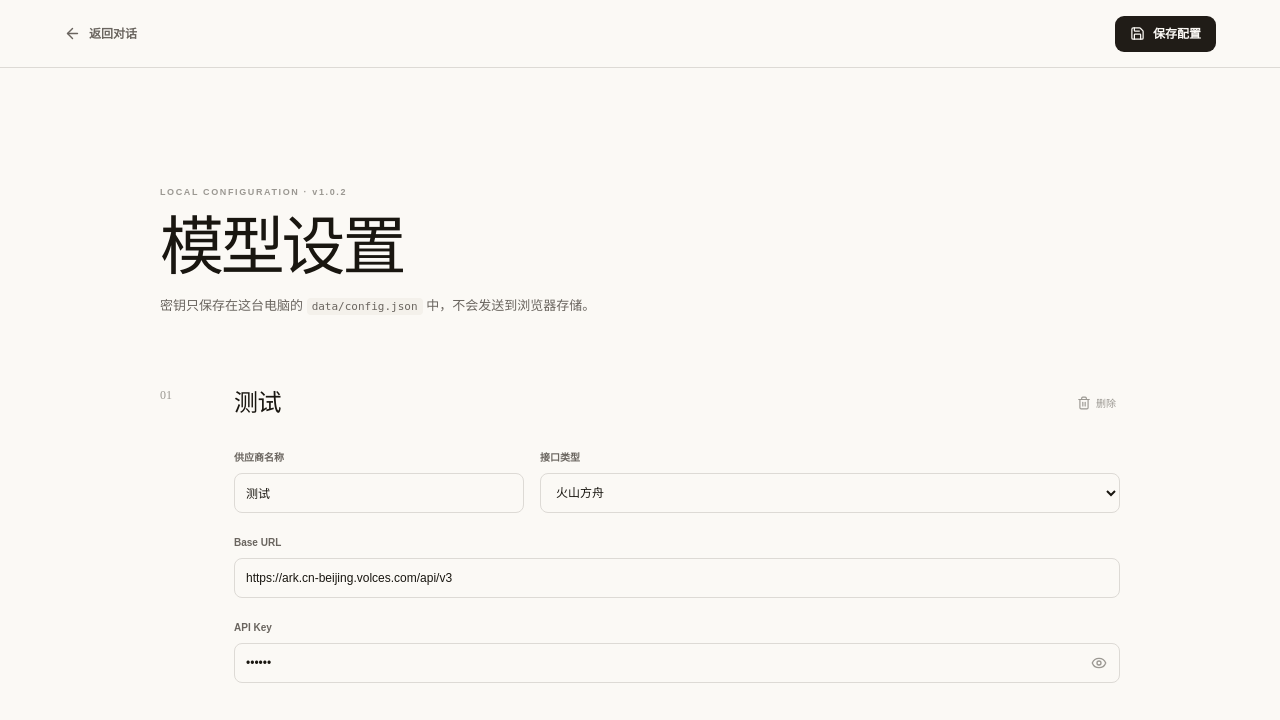
Scenario: SettingsForm provider protocols › switches the suggested base URL when selecting Kling
Select "可灵 API 2.0" in the dropdown showing "火山方舟" at (830, 493), box [540, 473, 1120, 513]
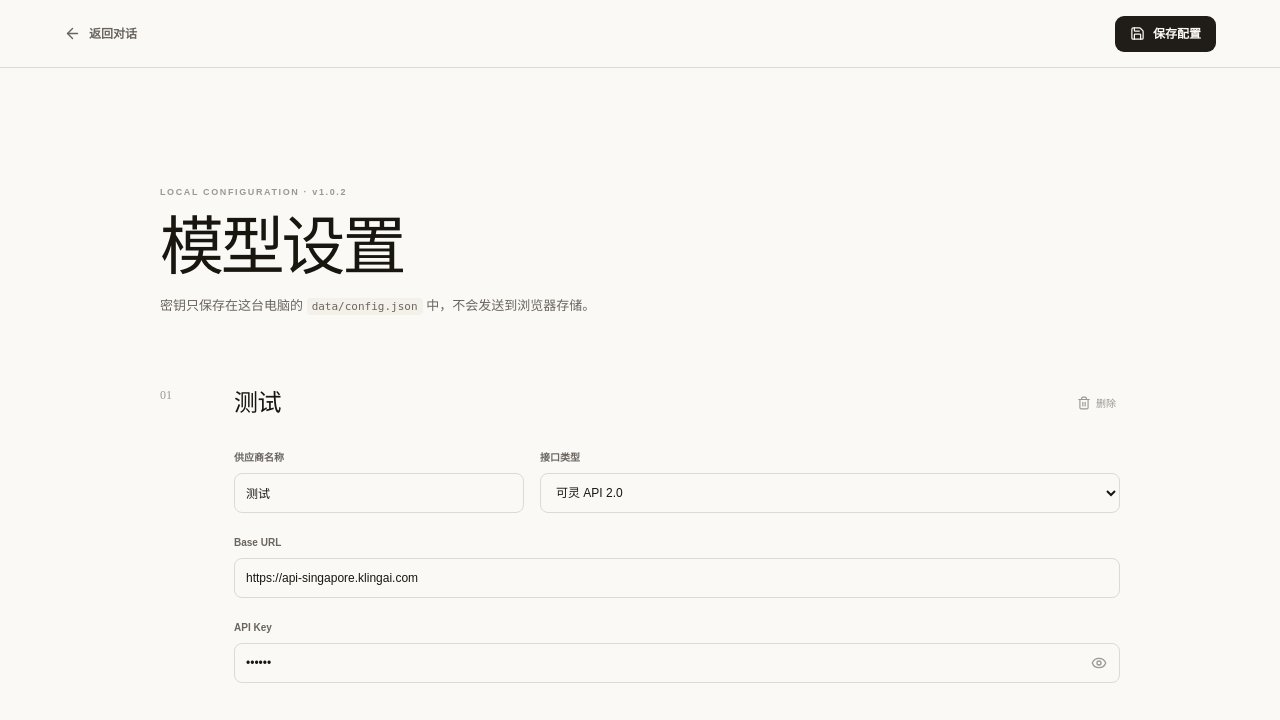
Expected: the field labelled "Base URL" holds "https://api-singapore.klingai.com", [234, 558, 1120, 598]
